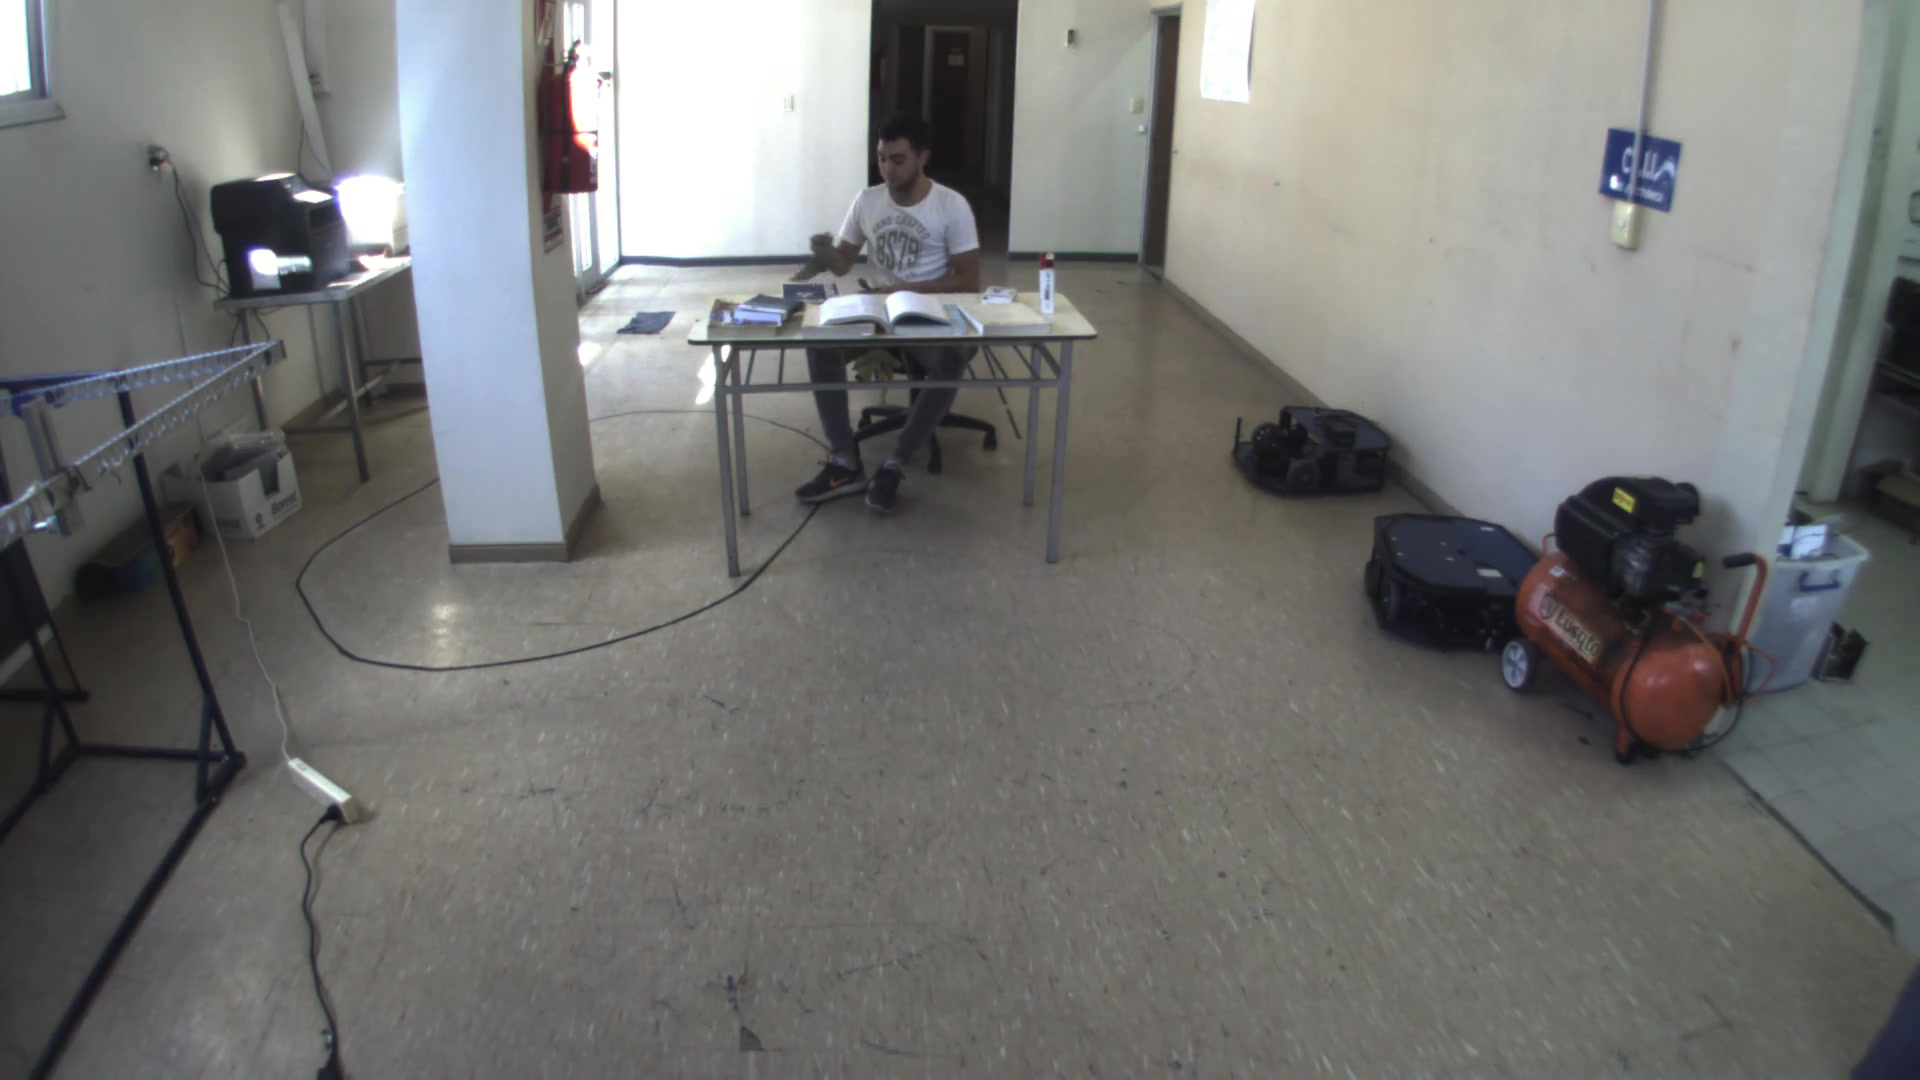hand: (803, 229, 840, 262)
